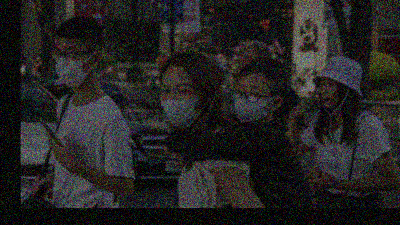with_mask: (160, 81, 207, 128), (231, 81, 273, 122), (53, 45, 92, 87)
without_mask: (318, 78, 338, 109)
